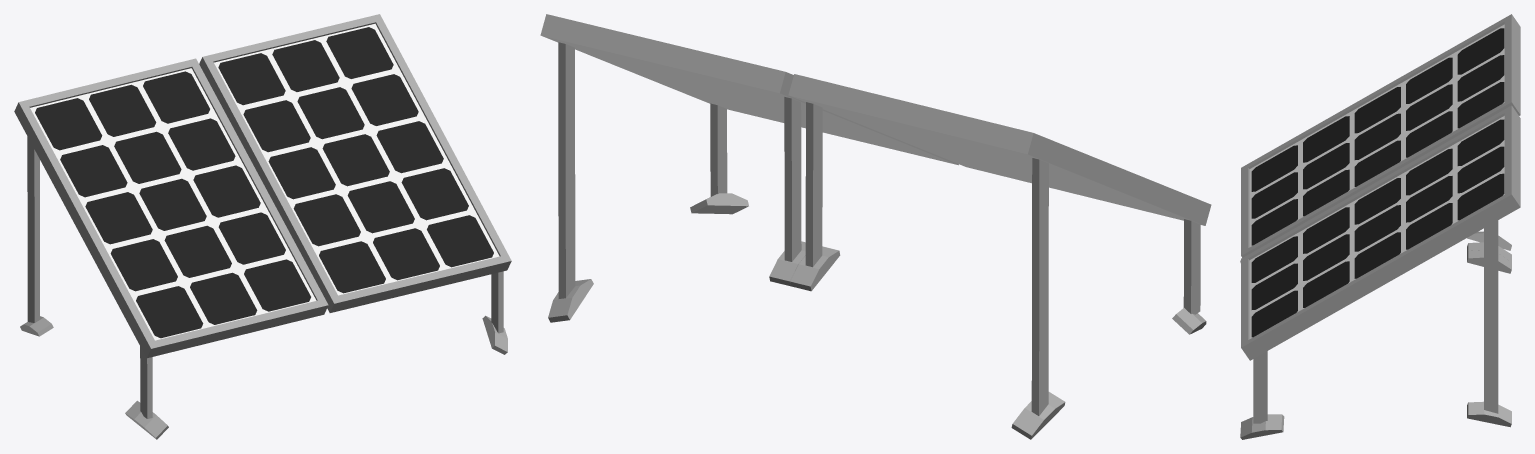
Rendered from ah89Y79JdT.glb.
3 renders of one model, left to right at view 1: azimuth 30°, elevation 25°; view 2: azimuth 150°, elevation 25°; view 3: azimuth 270°, elevation 25°, orthographic. The views are drawn at different scales.
Visible parts, largest first — view 1: SolarPanel_Roof; view 2: SolarPanel_Roof; view 3: SolarPanel_Roof.
Boxes of the visible parts, x1,y1,x2,y2 form: SolarPanel_Roof: [14, 14, 511, 439]; SolarPanel_Roof: [540, 14, 1211, 439]; SolarPanel_Roof: [1240, 14, 1520, 439].
Bounding box in the file's own units: 2.73 × 1.7 × 1.73.
1 material, 1 textured.
